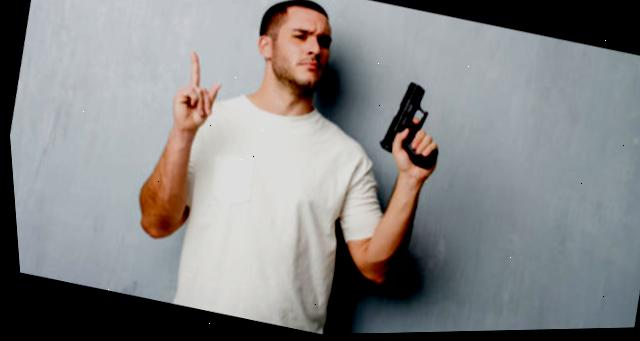pistol: (368, 73, 470, 177), (378, 83, 436, 172)
